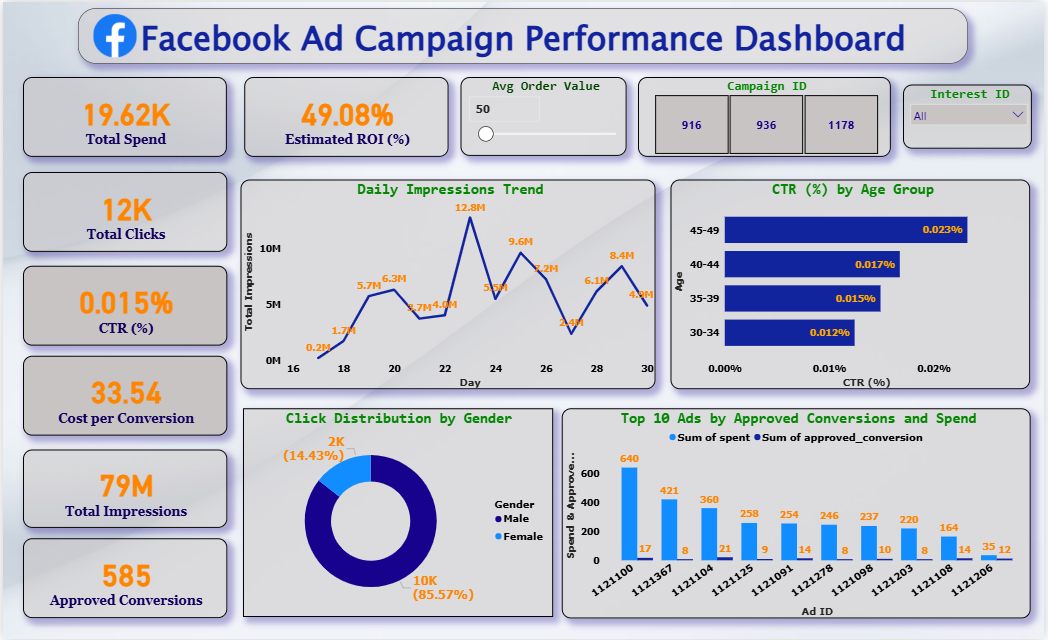

This screenshot's page, from the dashboard's own definition file:
{"tool":"powerbi","page":{"name":"Page 1","canvas":[1700,1040],"ordinal":0},"visuals":[{"type":"textbox","title":" Facebook Ad Campaign Performance Dashboard","box":[122.5,10,1452.5,90],"z":0},{"type":"slicer","title":"Avg Order Value","fields":{"Values":["Avg Order Value.Avg Order Value"]},"box":[746.2,123.1,271.2,128.8],"z":1000},{"type":"card","title":"Total Clicks","fields":{"Values":["data.Total Clicks"]},"box":[33.3,276.7,333.3,130],"z":2000},{"type":"card","title":"Total Impressions","fields":{"Values":["data.Total Impressions"]},"box":[33.3,730,333.3,128.3],"z":3000},{"type":"card","title":"CTR","fields":{"Values":["data.CTR (%)"]},"box":[33.3,430,333.3,130],"z":4000},{"type":"card","title":"Total Spend","fields":{"Values":["data.Total Spend"]},"box":[32.5,122.5,332.5,130],"z":5000},{"type":"image","box":[142.5,10,80,90],"z":6000},{"type":"card","title":"Approved Conversions","fields":{"Values":["data.Approved Conversions"]},"box":[33.3,875,333.3,130],"z":7000},{"type":"card","title":"Cost per Conversion","fields":{"Values":["data.Cost per Conversion"]},"box":[33.3,578.3,333.3,130],"z":8000},{"type":"lineChart","title":"Daily Impressions Trend","fields":{"Y":["data.Total Impressions"],"Category":["data.reporting_start.Variation.Date Hierarchy.Day"]},"box":[388.8,290,677.5,342.5],"z":9000},{"type":"clusteredBarChart","title":"CTR (%) by Age Group","fields":{"Y":["data.CTR (%)"],"Category":["data.age"]},"box":[1090,290,587.5,342.5],"z":10000},{"type":"donutChart","title":"Click Distribution by Gender","fields":{"Category":["data.Gender"],"Y":["data.Total Clicks"]},"box":[391.8,663.3,506.1,340.8],"z":11000},{"type":"slicer","title":"Interest ID","fields":{"Values":["data.Interest_ID_1"]},"box":[1470,135,210,105],"z":12000},{"type":"slicer","title":"Campaign ID","fields":{"Values":["data.campaign_id"]},"box":[1037.5,122.5,412.5,130],"z":13000},{"type":"card","title":"Total Clicks","fields":{"Values":["Avg Order Value.Estimated ROI (%)"]},"box":[393.3,123.3,333.3,130],"z":14000},{"type":"clusteredColumnChart","title":"Top 10 Ads by Approved Conversions and Spend","fields":{"Category":["data.ad_id"],"Y":["Sum(data.spent)","Sum(data.approved_conversion)"]},"box":[912.2,663.3,765.3,342.9],"z":15000}]}

Visuals, with their boxes in screenshot pixels (x1, y1, x2, y2), scaled from the page's 1700x1040 canvas onto the 1048x640 screenshot:
" Facebook Ad Campaign Performance Dashboard" textbox: 76:6:971:62
"Avg Order Value" slicer: 460:76:627:155
"Total Clicks" card: 21:170:226:250
"Total Impressions" card: 21:449:226:528
"CTR" card: 21:265:226:345
"Total Spend" card: 20:75:225:155
image: 88:6:137:62
"Approved Conversions" card: 21:538:226:618
"Cost per Conversion" card: 21:356:226:436
"Daily Impressions Trend" lineChart: 240:178:657:389
"CTR (%) by Age Group" clusteredBarChart: 672:178:1034:389
"Click Distribution by Gender" donutChart: 242:408:554:618
"Interest ID" slicer: 906:83:1036:148
"Campaign ID" slicer: 640:75:894:155
"Total Clicks" card: 242:76:448:156
"Top 10 Ads by Approved Conversions and Spend" clusteredColumnChart: 562:408:1034:619
